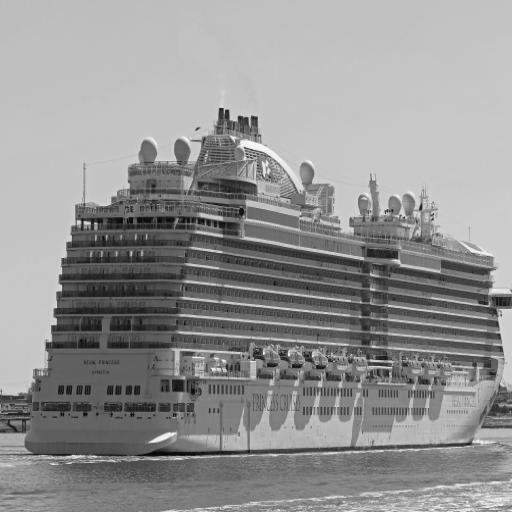cruises: (23, 103, 512, 463)
